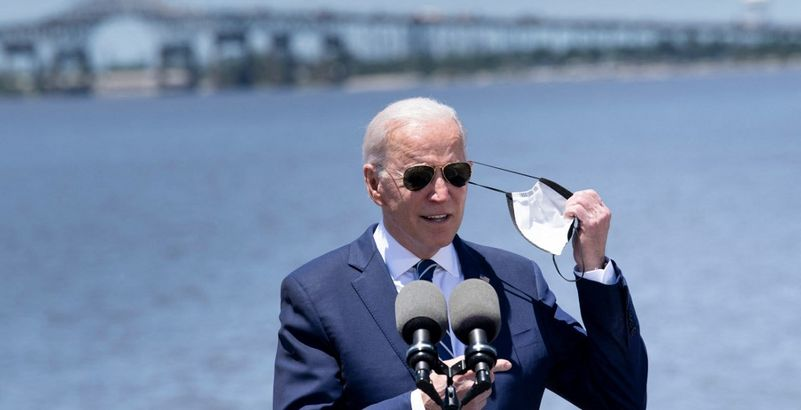without_mask: (388, 144, 470, 244)
